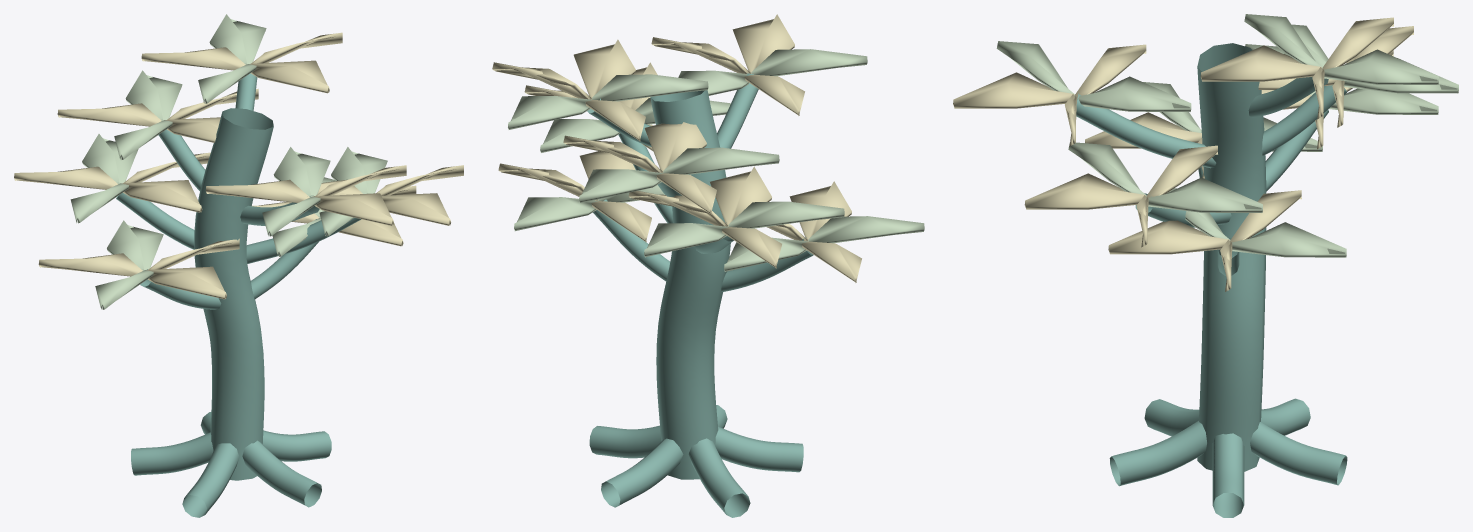
Rendered from bio_canopy_tree_06_near.glb.
3 renders of one model, left to right at view 1: azimuth 30°, elevation 25°; view 2: azimuth 150°, elevation 25°; view 3: azimuth 270°, elevation 25°, orthographic. The views are drawn at different scales.
Visible parts, largest first — view 1: Buttressed trunk, Broad canopy leaf.015, Broad canopy leaf.010, Broad canopy leaf.020, Broad canopy leaf.005, Broad canopy leaf.030, Broad canopy leaf.031, Broad canopy leaf.016, Broad canopy leaf.011, Broad canopy leaf.021, Broad canopy leaf.025, Broad canopy leaf.006 (+3 smaller); view 2: Buttressed trunk, Broad canopy leaf.010, Broad canopy leaf.015, Broad canopy leaf.005, Broad canopy leaf.030, Broad canopy leaf.006, Broad canopy leaf.031, Broad canopy leaf.016, Broad canopy leaf.021, Broad canopy leaf.011, Broad canopy leaf, Broad canopy leaf.020 (+3 smaller); view 3: Buttressed trunk, Broad canopy leaf.015, Broad canopy leaf.025, Broad canopy leaf.010, Broad canopy leaf, Broad canopy leaf.016, Broad canopy leaf.026, Broad canopy leaf.011, Broad canopy leaf.001, Broad canopy leaf.006, Broad canopy leaf.031, Broad canopy leaf.030 (+2 smaller).
Boxes of the visible parts, bbox=[...] form: Buttressed trunk: bbox=[116, 73, 361, 517]; Broad canopy leaf.015: bbox=[141, 32, 342, 93]; Broad canopy leaf.010: bbox=[205, 165, 406, 225]; Broad canopy leaf.020: bbox=[38, 238, 239, 299]; Broad canopy leaf.005: bbox=[14, 152, 210, 212]; Broad canopy leaf.030: bbox=[57, 88, 258, 142]; Broad canopy leaf.031: bbox=[114, 70, 182, 159]; Broad canopy leaf.016: bbox=[198, 14, 266, 103]; Broad canopy leaf.011: bbox=[262, 147, 330, 236]; Broad canopy leaf.021: bbox=[95, 220, 163, 309]; Broad canopy leaf.025: bbox=[317, 165, 463, 225]; Broad canopy leaf.006: bbox=[70, 134, 138, 223]; Buttressed trunk: bbox=[587, 73, 813, 517]; Broad canopy leaf.010: bbox=[651, 14, 804, 115]; Broad canopy leaf.015: bbox=[492, 39, 645, 141]; Broad canopy leaf.005: bbox=[628, 166, 781, 268]; Broad canopy leaf.030: bbox=[563, 122, 716, 214]; Broad canopy leaf.006: bbox=[644, 201, 844, 257]; Broad canopy leaf.031: bbox=[579, 147, 779, 203]; Broad canopy leaf.016: bbox=[508, 74, 708, 129]; Broad canopy leaf.021: bbox=[724, 216, 924, 271]; Broad canopy leaf.011: bbox=[678, 49, 867, 95]; Broad canopy leaf: bbox=[498, 151, 651, 242]; Broad canopy leaf.020: bbox=[767, 181, 861, 282]; Buttressed trunk: bbox=[1076, 43, 1347, 517]; Broad canopy leaf.015: bbox=[1200, 17, 1393, 119]; Broad canopy leaf.025: bbox=[1024, 145, 1217, 247]; Broad canopy leaf.010: bbox=[953, 44, 1146, 146]; Broad canopy leaf: bbox=[1108, 190, 1301, 291]; Broad canopy leaf.016: bbox=[1244, 14, 1438, 84]; Broad canopy leaf.026: bbox=[1068, 142, 1262, 212]; Broad canopy leaf.011: bbox=[996, 41, 1191, 111]; Broad canopy leaf.001: bbox=[1167, 188, 1346, 257]; Broad canopy leaf.006: bbox=[1245, 44, 1438, 114]; Broad canopy leaf.031: bbox=[1292, 24, 1458, 93]; Broad canopy leaf.030: bbox=[1258, 26, 1413, 127].
Size of the model in its own units: 2.97 by 2.99 by 3.05.
